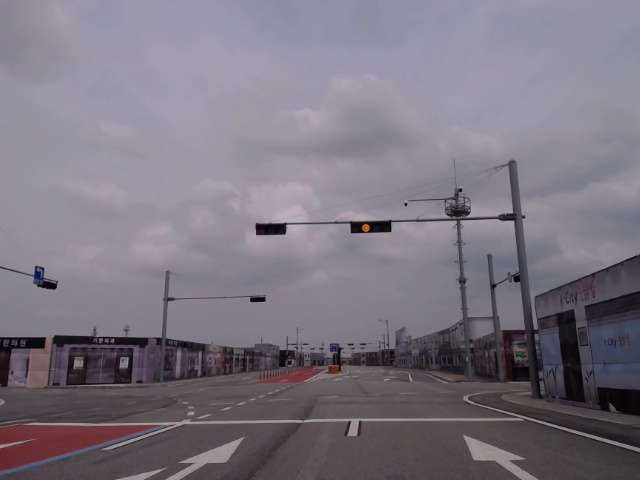orange_4: (349, 219, 392, 234)
